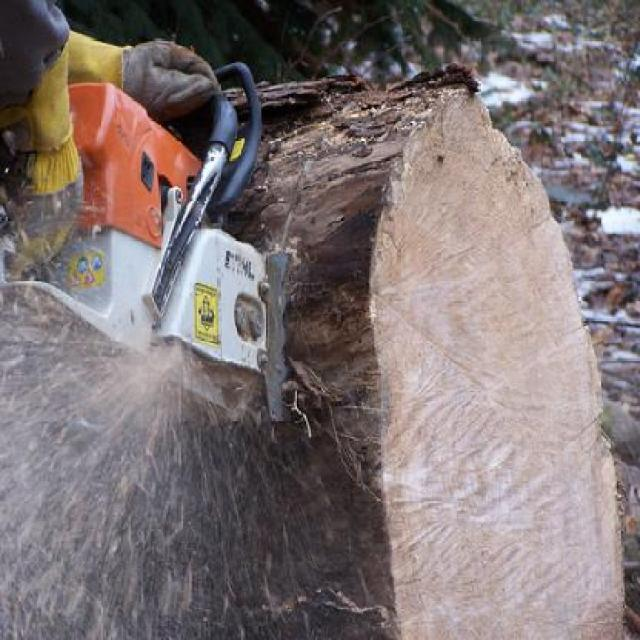Chainsaw: (0, 59, 320, 504)
